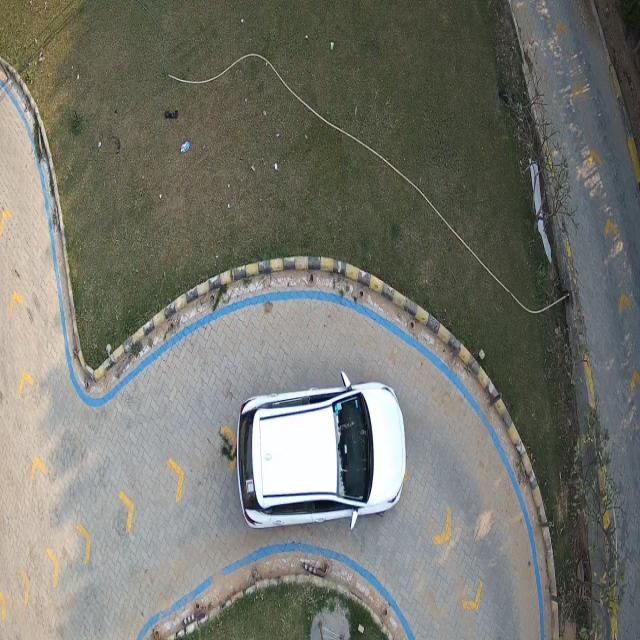car: (237, 383, 407, 528)
